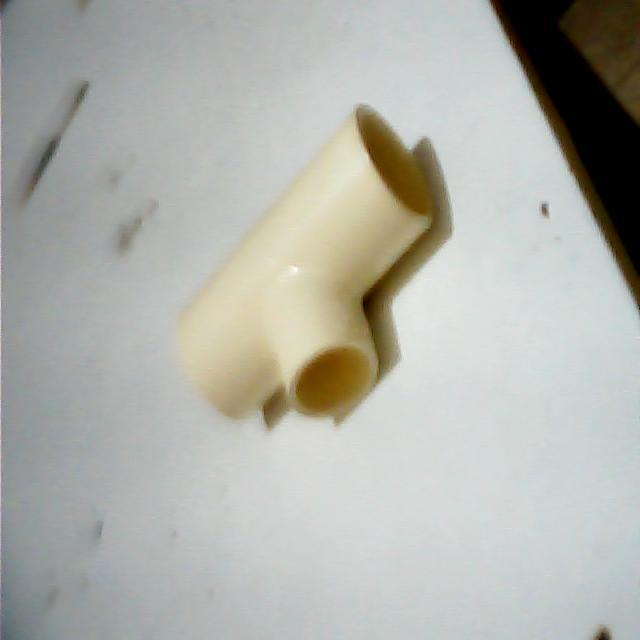T Joint: (177, 105, 435, 426)
